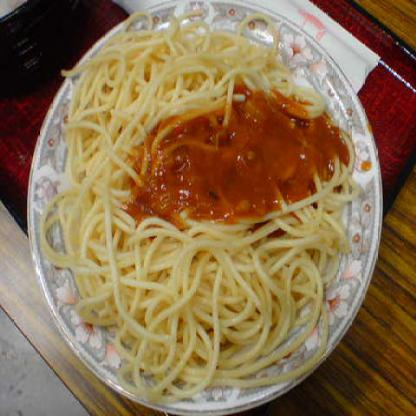pasta: (53, 20, 344, 390)
